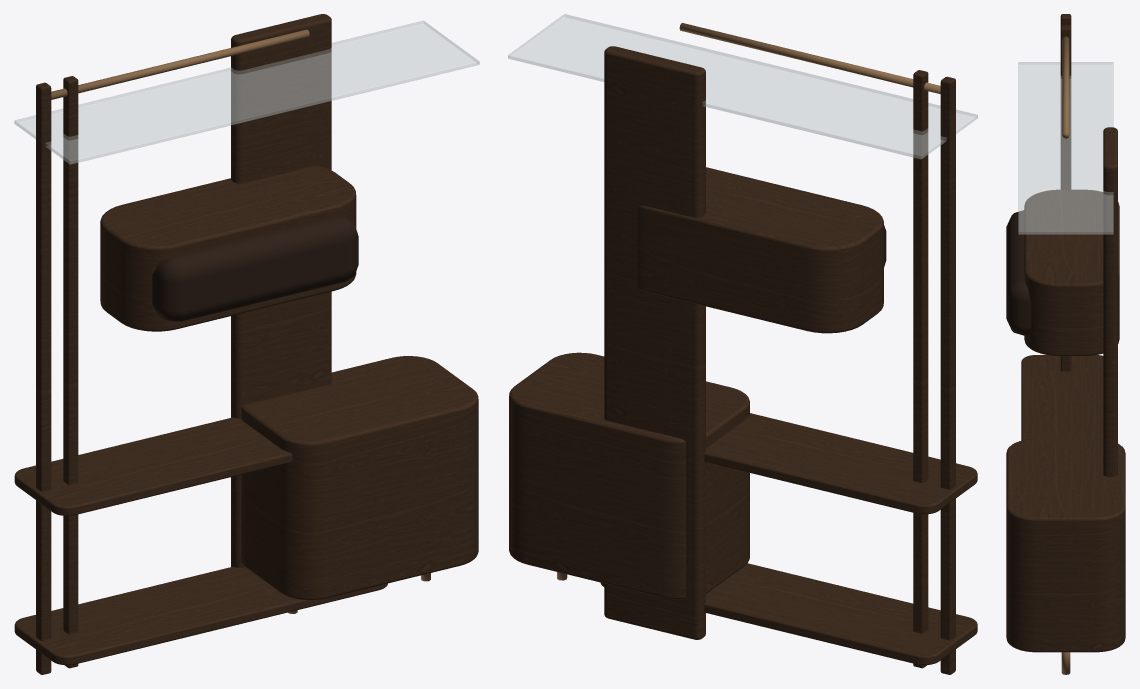
The model's file is nepal-bookshelf.glb.
The picture shows the model from 3 angles, left to right: view 1: azimuth 30°, elevation 25°; view 2: azimuth 150°, elevation 25°; view 3: azimuth 270°, elevation 25°; orthographic projection. The views are drawn at different scales.
Parts seen in each view (by area): view 1: cabinet, panel, glass, ovalback, shelf0.08, ovalhole, shelf0.55, post-0.67, post-0.58, toprail; view 2: cabinet, panel, ovalback, glass, shelf0.08, shelf0.55, post-0.67, post-0.58, toprail; view 3: cabinet, glass, ovalback, shelf0.55, panel, ovalhole, post-0.58, toprail, cleg1.
Boxes of the visible parts, x1,y1,x2,y2 form: cabinet: (241, 356, 478, 600); panel: (231, 14, 331, 567); glass: (14, 20, 479, 164); ovalback: (100, 165, 356, 331); shelf0.08: (14, 566, 387, 665); ovalhole: (152, 215, 358, 321); shelf0.55: (14, 417, 292, 515); post-0.67: (36, 82, 51, 674); post-0.58: (63, 76, 78, 668); toprail: (51, 29, 309, 99); cabinet: (509, 352, 749, 599); panel: (604, 46, 705, 639); ovalback: (637, 167, 883, 333); glass: (508, 14, 977, 159); shelf0.08: (600, 563, 977, 665); shelf0.55: (704, 413, 977, 514); post-0.67: (940, 76, 955, 674); post-0.58: (913, 70, 928, 668); toprail: (679, 23, 940, 93); cabinet: (1006, 439, 1125, 652); glass: (1018, 62, 1113, 234); ovalback: (1024, 189, 1119, 355); shelf0.55: (1021, 355, 1103, 440); panel: (1103, 127, 1117, 476); ovalhole: (1006, 210, 1031, 335); post-0.58: (1060, 25, 1071, 371); toprail: (1062, 36, 1069, 138); cleg1: (1061, 652, 1070, 674).
Size of the model in its own units: 1.39 by 1.85 by 0.4.
Materials: 4 (1 with a texture image).
